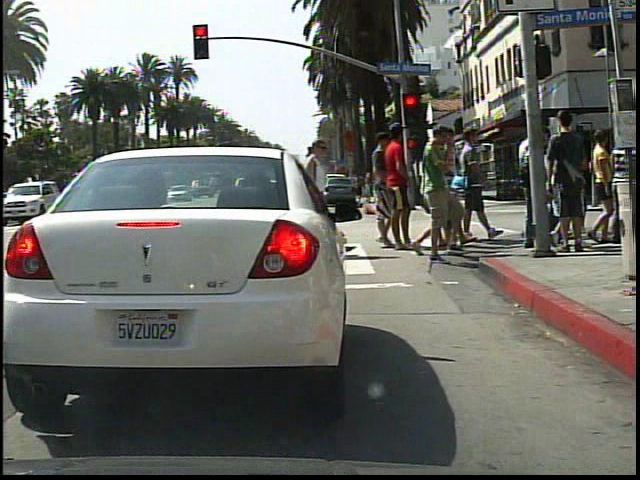person: (303, 131, 330, 178)
